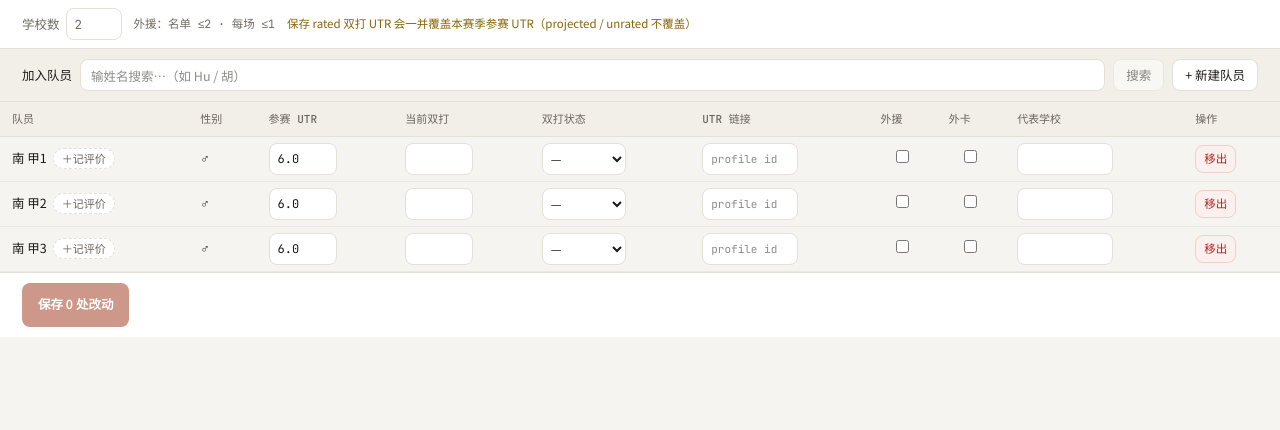
it: TeamEditPanel add / remove errors surface inline › shows the backend detail when an add is refused (e.g. already on team)
The image size is (1280, 430).
Type "Hu" into the field named "加入队员搜索".
click(593, 75); type("Hu")  # box [80,59,1105,91]
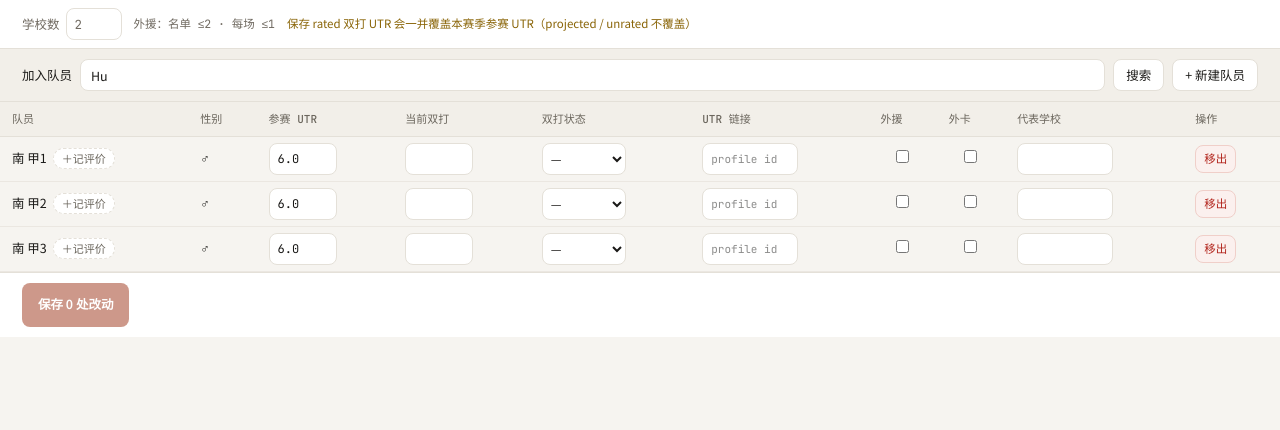
Click the button "搜索".
click(1139, 75)  # box [1113,59,1164,91]
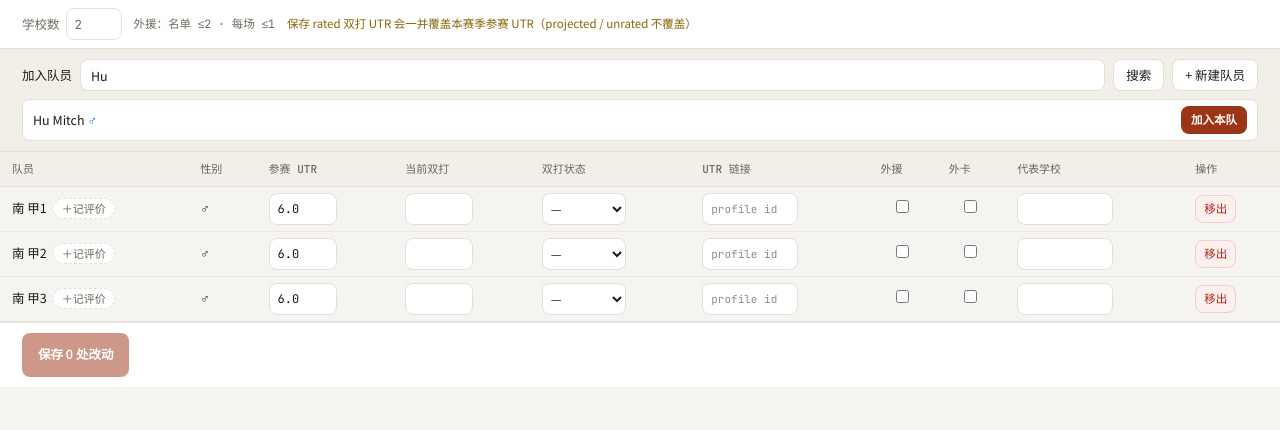
Click the button "加入本队".
click(1214, 120)  # box [1181,106,1247,134]
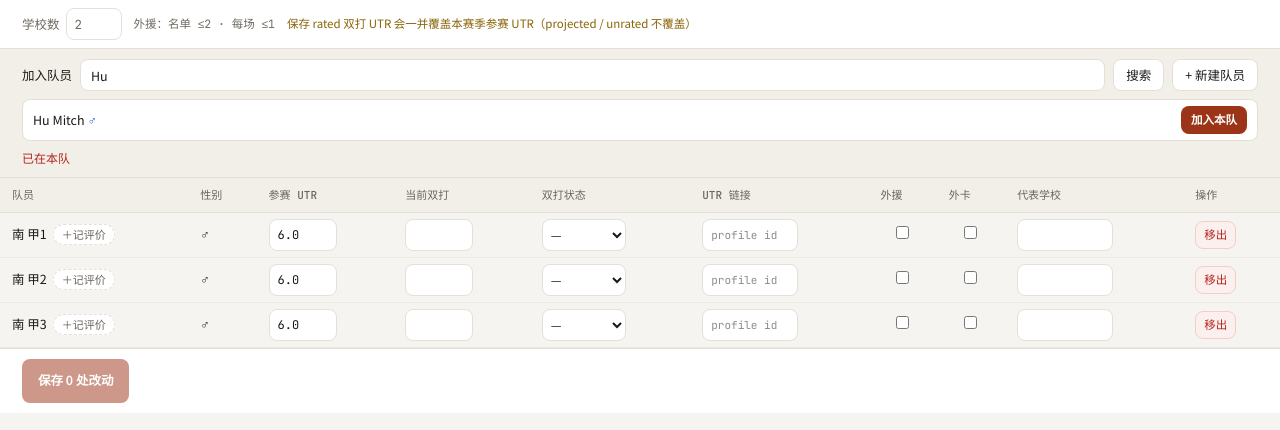
Expected: the text "已在本队" is shown, [22,149,70,166]
